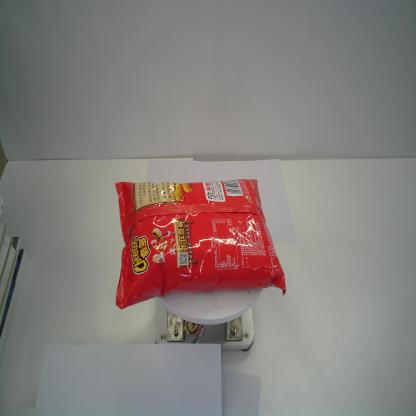Puffed Food: (114, 177, 287, 312)
